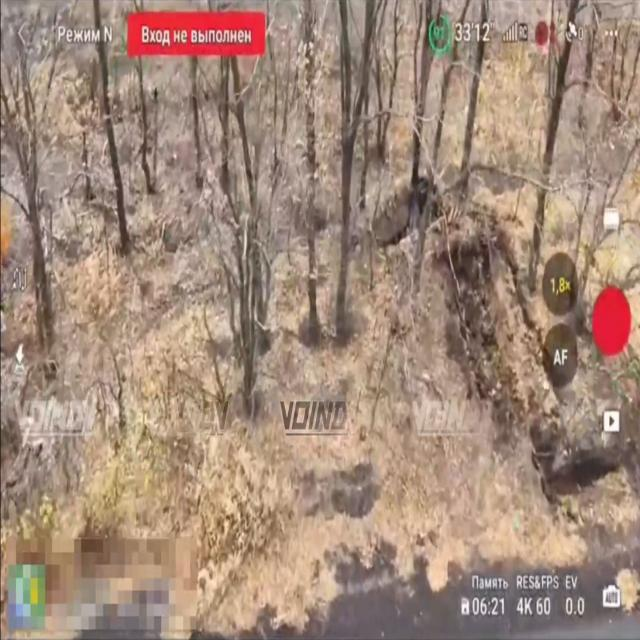fortification: (520, 385, 635, 524), (451, 211, 514, 417), (362, 175, 446, 285)
